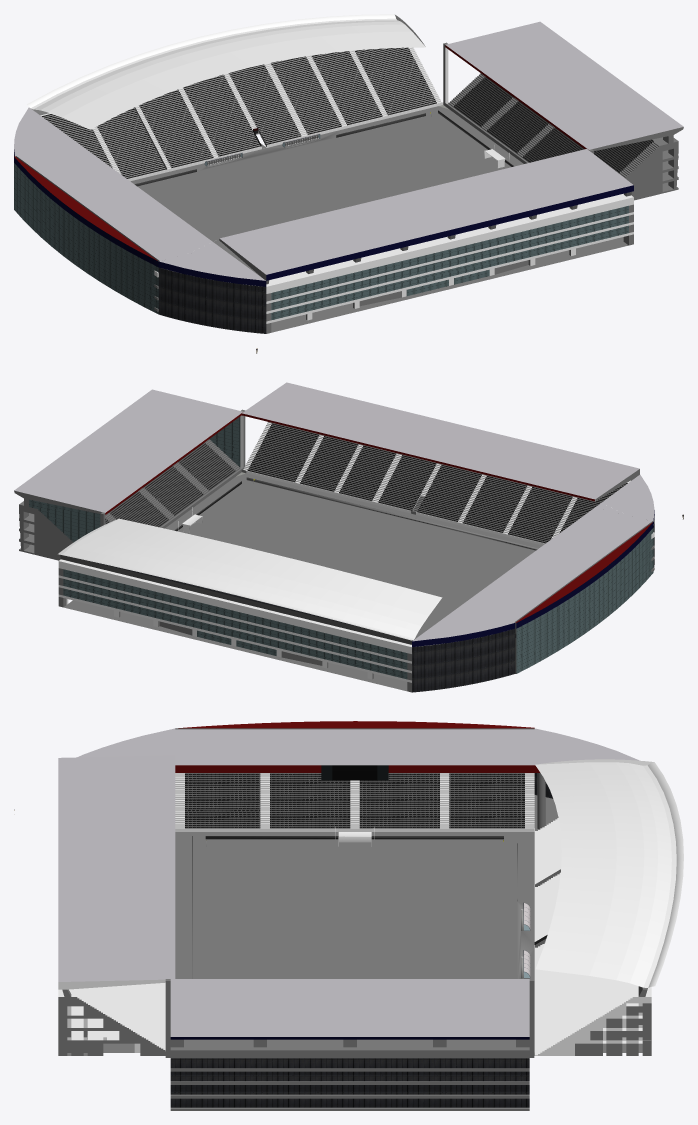
The model's file is al-shabab-stadium.glb.
The picture shows the model from 3 angles, top to bottom: view 1: azimuth 30°, elevation 25°; view 2: azimuth 150°, elevation 25°; view 3: azimuth 270°, elevation 25°; orthographic projection. The views are drawn at different scales.
Visible parts, largest first — view 1: root; view 2: root; view 3: root.
Boxes of the visible parts, x1,y1,x2,y2 form: root: (14,14,683,333); root: (14,382,654,692); root: (58,721,683,1110).
Bounding box in the file's own units: 176 × 23.98 × 153.
30 materials, 15 textured.
